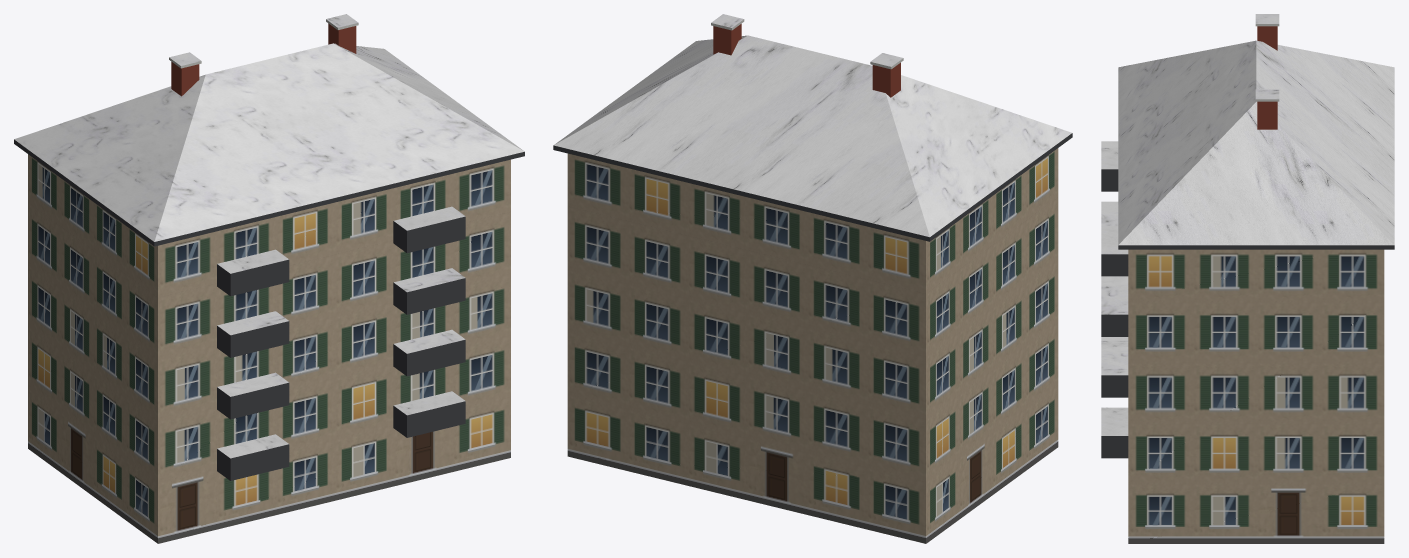
The model's file is c_apartment2.glb.
3 renders of one model, left to right at view 1: azimuth 30°, elevation 25°; view 2: azimuth 150°, elevation 25°; view 3: azimuth 270°, elevation 25°, orthographic. The views are drawn at different scales.
Parts seen in each view (by area): view 1: House; view 2: House; view 3: House.
Part boxes in pixels (x1,y1,x2,y2): House: (14, 14, 524, 543); House: (553, 14, 1072, 543); House: (1101, 14, 1394, 543).
Bounding box in the file's own units: 18.9 × 19.94 × 13.15.
3 materials, 3 textured.
